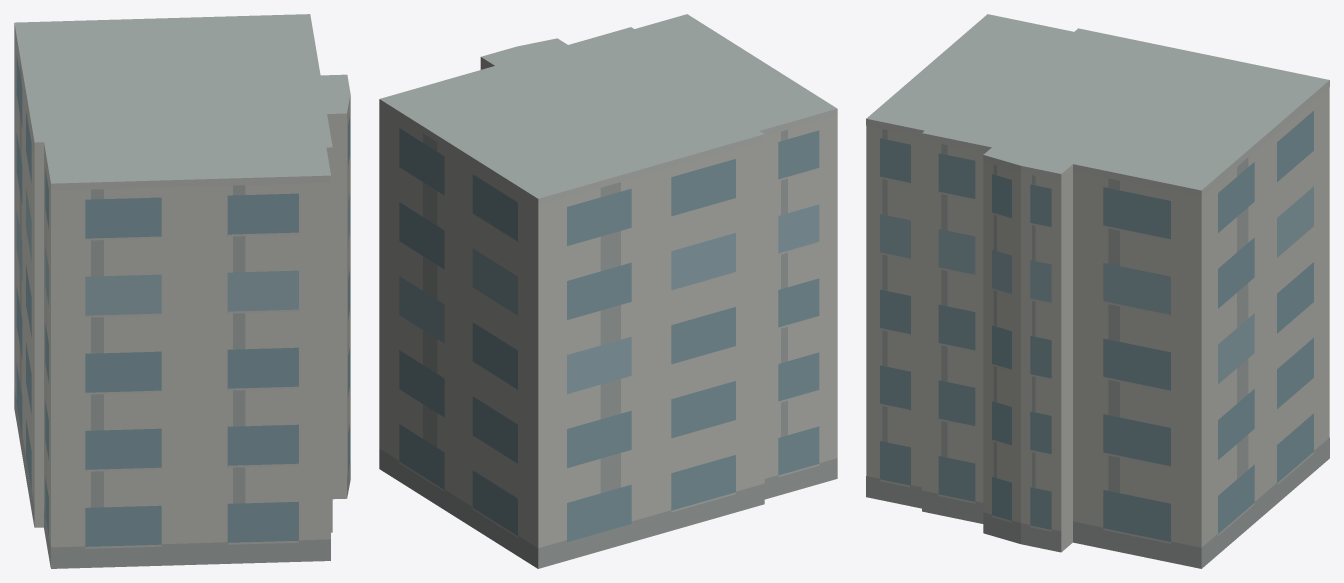
Rendered from survey-upis-32550018.glb.
The picture shows the model from 3 angles, left to right: view 1: azimuth 30°, elevation 25°; view 2: azimuth 150°, elevation 25°; view 3: azimuth 270°, elevation 25°; orthographic projection. The views are drawn at different scales.
Parts seen in each view (by area): view 1: survey-upis-32550018.tmp; view 2: survey-upis-32550018.tmp; view 3: survey-upis-32550018.tmp.
Part boxes in pixels (x1,y1,x2,y2): survey-upis-32550018.tmp: (14,14,350,568); survey-upis-32550018.tmp: (379,14,837,568); survey-upis-32550018.tmp: (866,14,1329,568).
Bounding box in the file's own units: 13.21 × 13.2 × 14.67.
